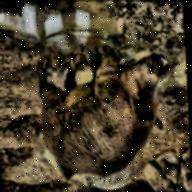boar: (37, 49, 181, 188)
